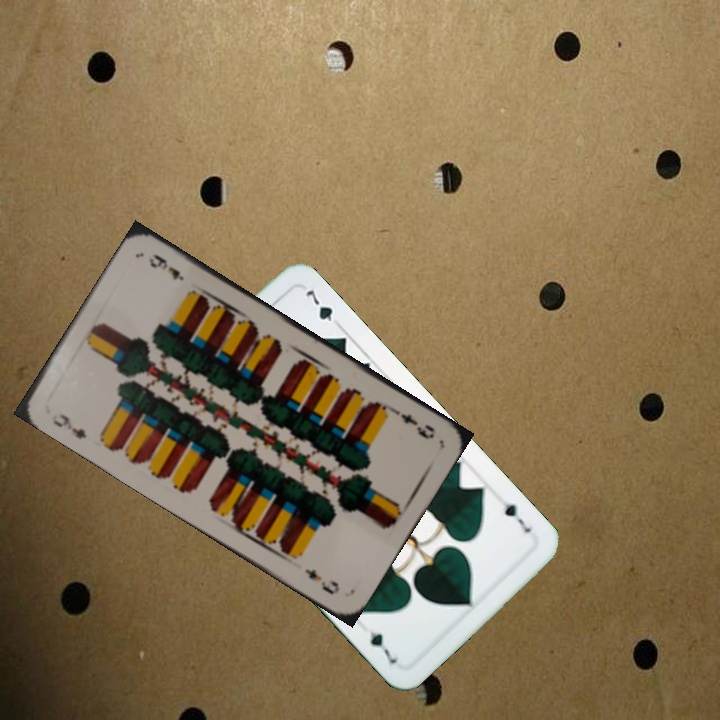E9: (387, 404, 437, 442), (48, 409, 90, 442)
G7: (497, 493, 534, 536)
